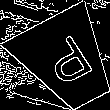P_SE: (36, 31, 98, 92)
